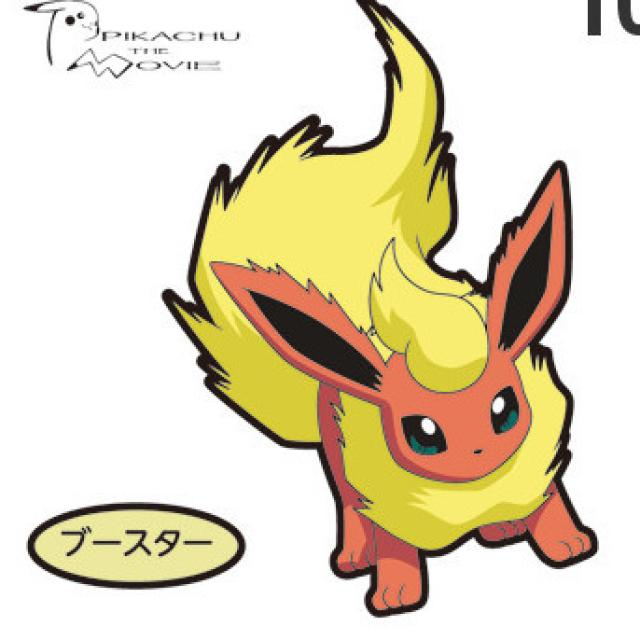Flareon: (214, 146, 609, 610)
